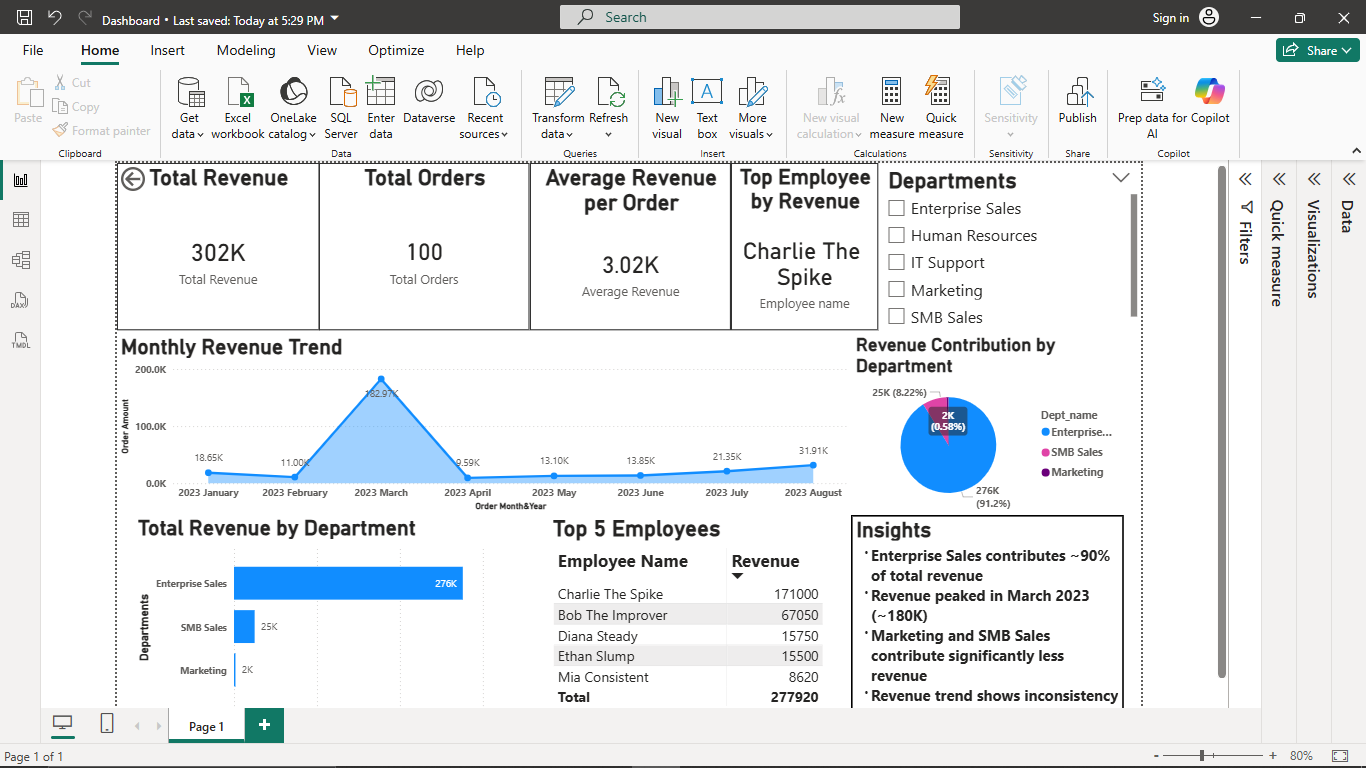

The page's visual inventory and layout, read from the dashboard file:
{"tool":"powerbi","page":{"name":"Page 1","canvas":[1280,720],"ordinal":0},"visuals":[{"type":"barChart","title":"Total Revenue by Department","fields":{"Category":["departments.dept_name"],"Y":["Sum(orders.order_amount)"]},"box":[21.1,439.5,464.5,280.3],"z":0},{"type":"lineChart","title":"Monthly Revenue Trend","fields":{"Y":["Sum(orders.order_amount)"],"Category":["orders.order_date.Variation.Date Hierarchy.Year","orders.order_date.Variation.Date Hierarchy.Month"]},"box":[0,214.3,918.6,225.7],"z":1000},{"type":"card","title":" Total Revenue","fields":{"Values":["Sum(orders.order_amount)"]},"box":[0,0,252.9,208.6],"z":2000},{"type":"tableEx","title":"Top 5 Employees","fields":{"Values":["employees.name","Sum(orders.order_amount)"]},"box":[539.5,439.5,347.4,261.8],"z":3000},{"type":"slicer","fields":{"Values":["departments.dept_name"]},"box":[951.4,0,328.6,208.6],"z":4000},{"type":"card","title":"Average Revenue per Order","fields":{"Values":["Avg(orders.order_amount)"]},"box":[515.7,0,251.4,208.6],"z":5000},{"type":"card","title":"Total Orders","fields":{"Values":["Count(orders.order_id)"]},"box":[252.9,0,262.9,208.6],"z":6000},{"type":"textbox","title":"Insights","box":[917.1,440,341.4,280],"z":6001},{"type":"pieChart","title":"Revenue Contribution by Department","fields":{"Category":["departments.dept_name"],"Y":["Sum(orders.order_amount)"]},"box":[918.6,214.3,340,225.7],"z":6002},{"type":"actionButton","box":[0,0,100,40],"z":6004},{"type":"card","title":"Top Employee by Revenue","fields":{"Values":["Min(employees.name)"]},"box":[767.1,0,184.3,208.6],"z":6005}]}

Visuals, with their boxes on the page's 1280x720 design canvas (x1, y1, x2, y2). These are canvas units, not pixel positions in the 1366x768 screenshot, which may show the page scaled, cropped or inside an application window:
"Total Revenue by Department" barChart: 21/440/486/720
"Monthly Revenue Trend" lineChart: 0/214/919/440
" Total Revenue" card: 0/0/253/209
"Top 5 Employees" tableEx: 540/440/887/701
slicer - departments.dept_name: 951/0/1280/209
"Average Revenue per Order" card: 516/0/767/209
"Total Orders" card: 253/0/516/209
"Insights" textbox: 917/440/1258/720
"Revenue Contribution by Department" pieChart: 919/214/1259/440
actionButton: 0/0/100/40
"Top Employee by Revenue" card: 767/0/951/209
